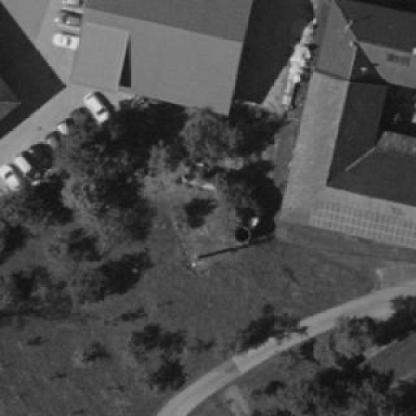solar-pv-panel: (309, 198, 416, 250), (387, 51, 410, 67)
